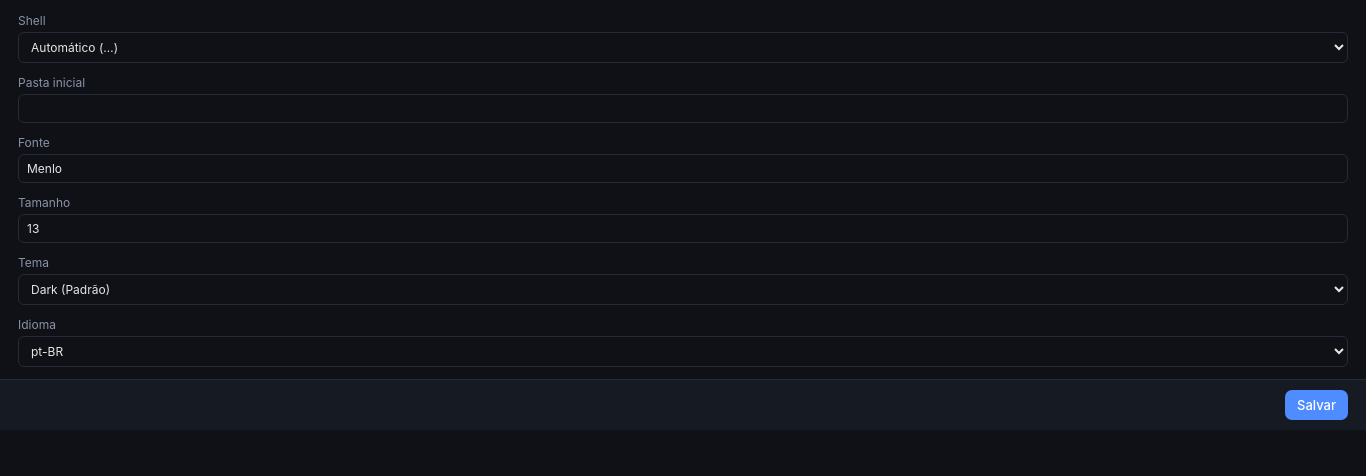
TerminalTab › bloqueia salvar com tamanho de fonte fora de 10–20
The width and height of the screenshot is (1366, 476).
Expected: the button is enabled, [1285,390,1348,420]
Replace the text in the number field with "21" at (683, 228), box [18,214,1348,243]
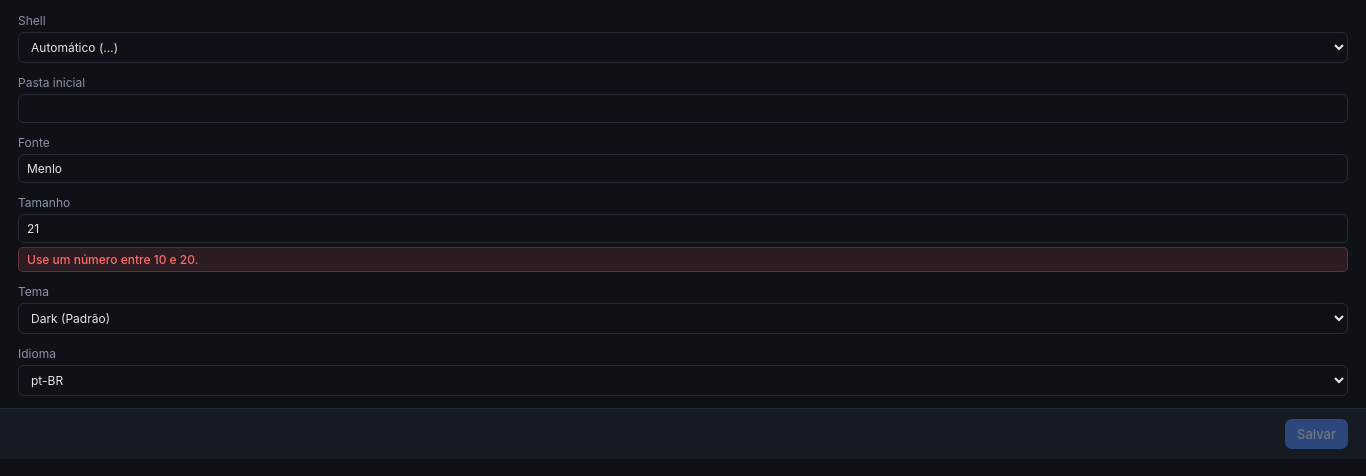
Result: the message "Use um número entre 10 e 20." is shown at [18,247,1348,272]
Result: the button is disabled at [1285,419,1348,449]
Replace the text in the number field with "10" at (683, 228), box [18,214,1348,243]
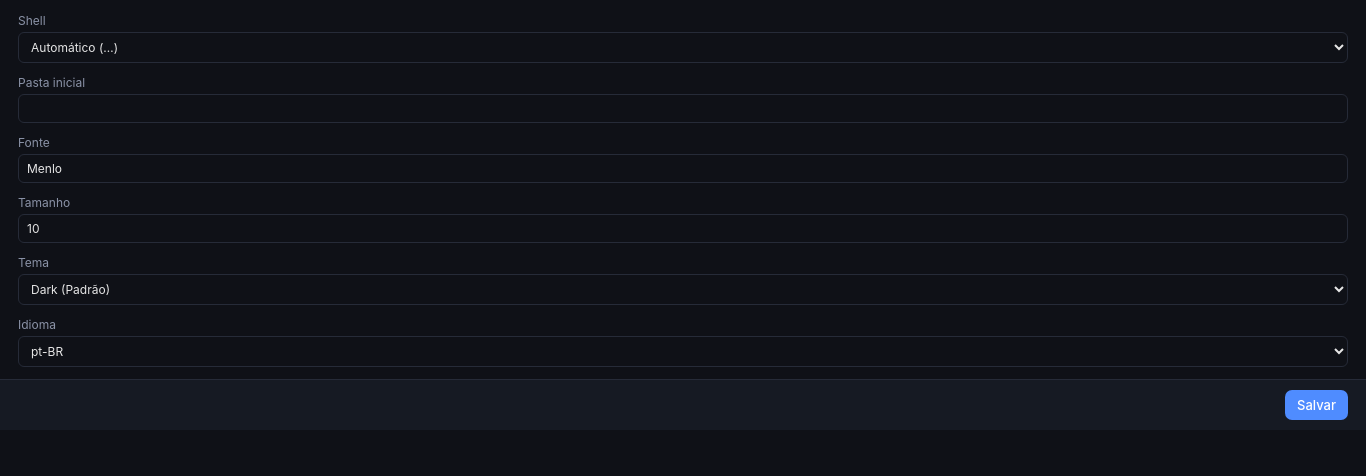
Result: the message "Use um número entre 10 e 20." is gone
Result: the button is enabled at [1285,390,1348,420]
